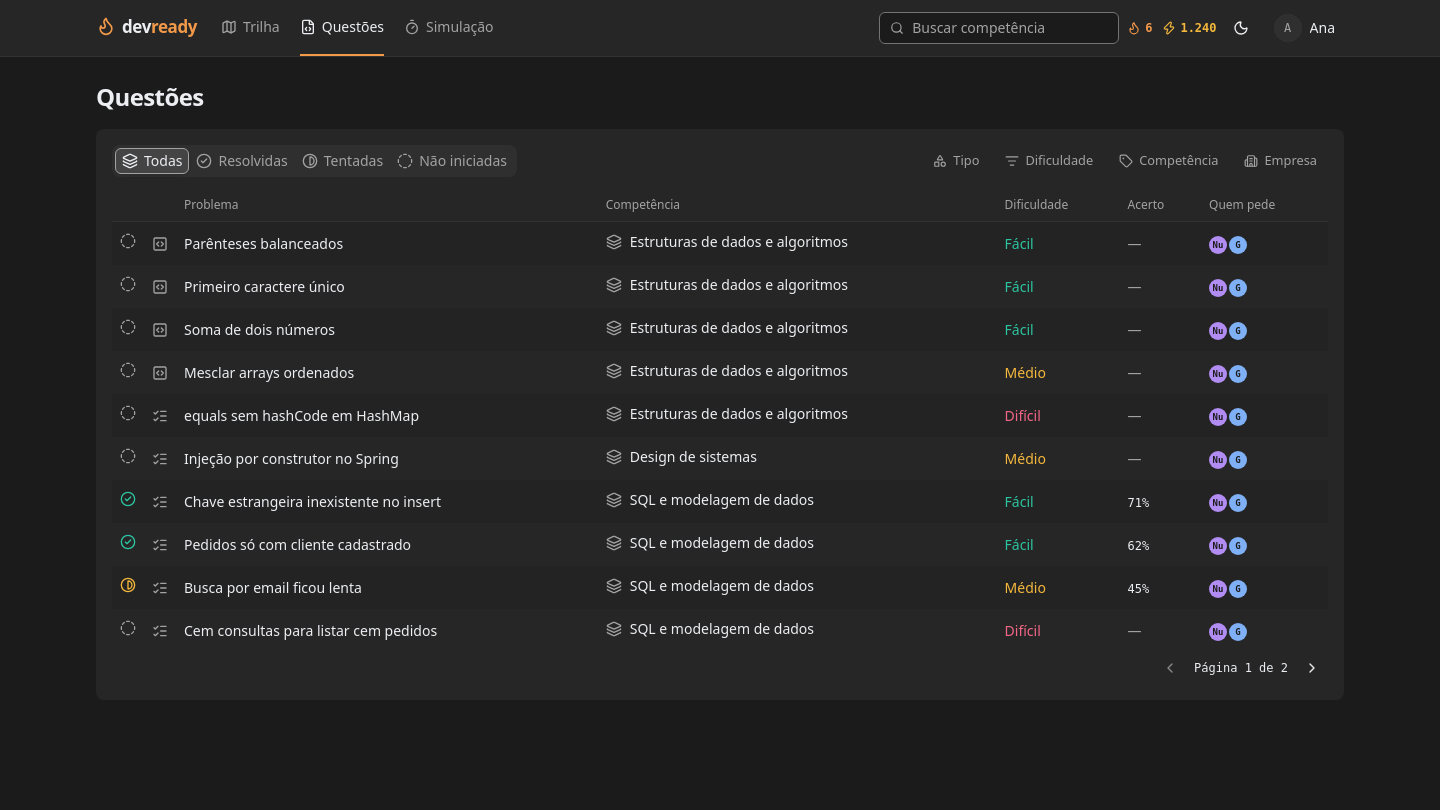
Test case: QuestionsPage › a aba Resolvidas deixa só as resolvidas
The width and height of the screenshot is (1440, 810).
Expected: the navigation bar named "Navegação principal" is shown, [221,0,494,56]
Expected: the heading "Questões" is shown, [96,80,204,113]
What coordinates should you click on to do the following:
click the tab "Resolvidas"
I would click on:
 (242, 161)
Its box is [190,148,295,174].
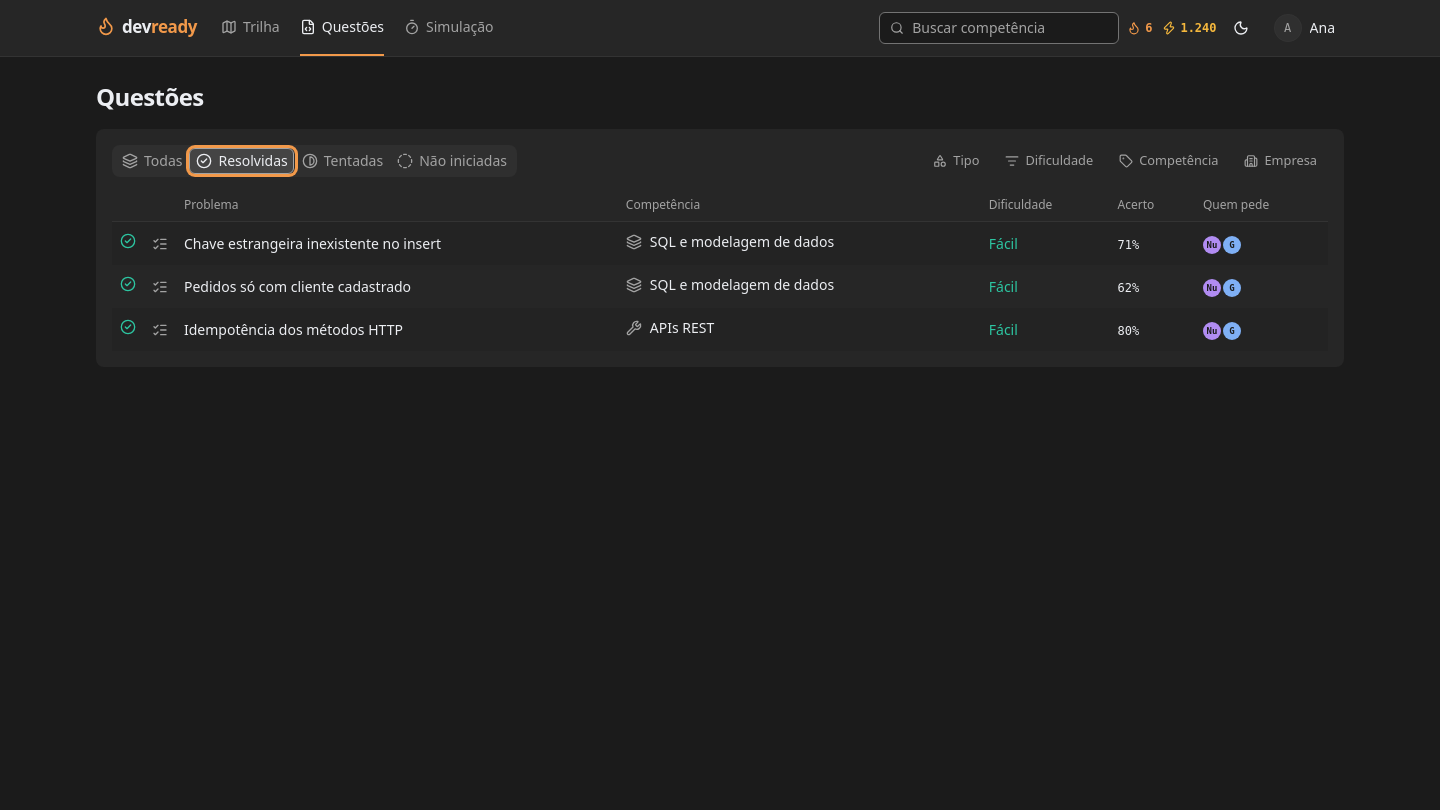
Expected: the navigation bar "Paginação" is gone
